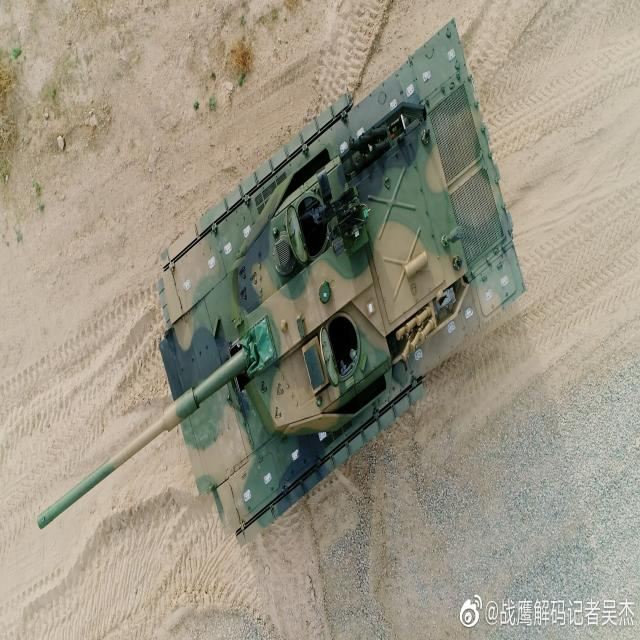tank: (25, 22, 532, 552)
